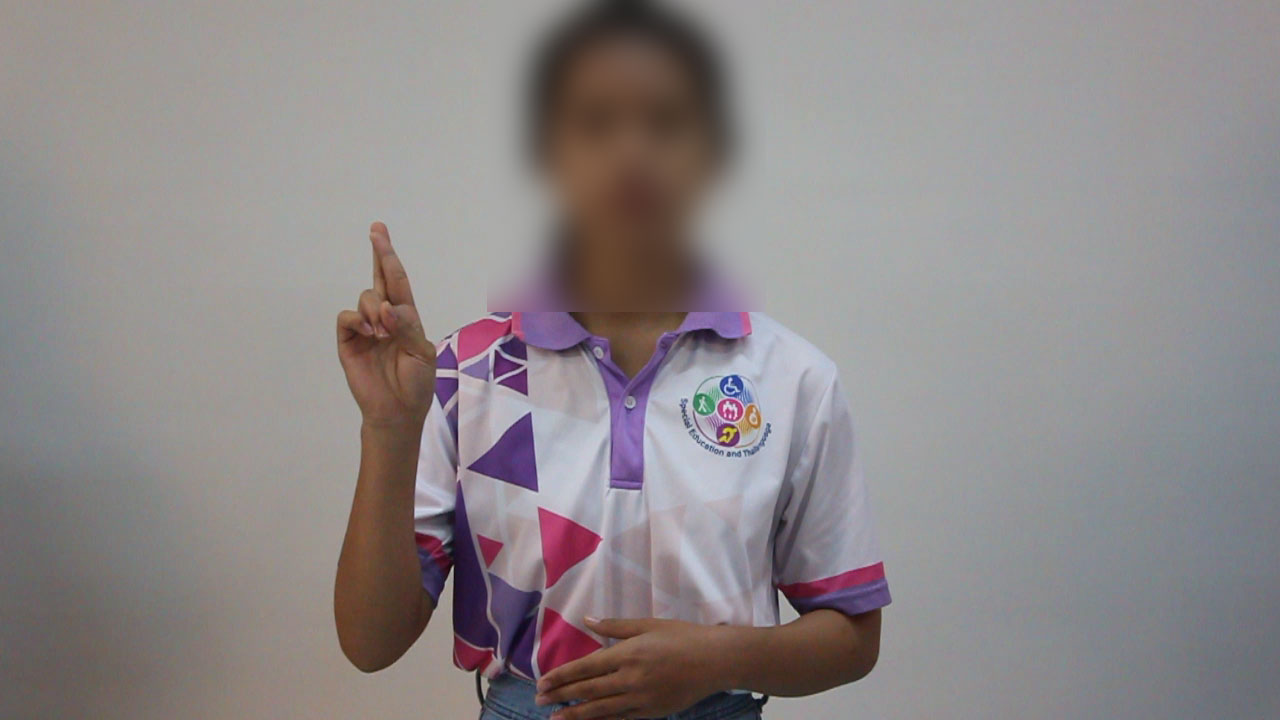rao: (321, 212, 461, 442)
